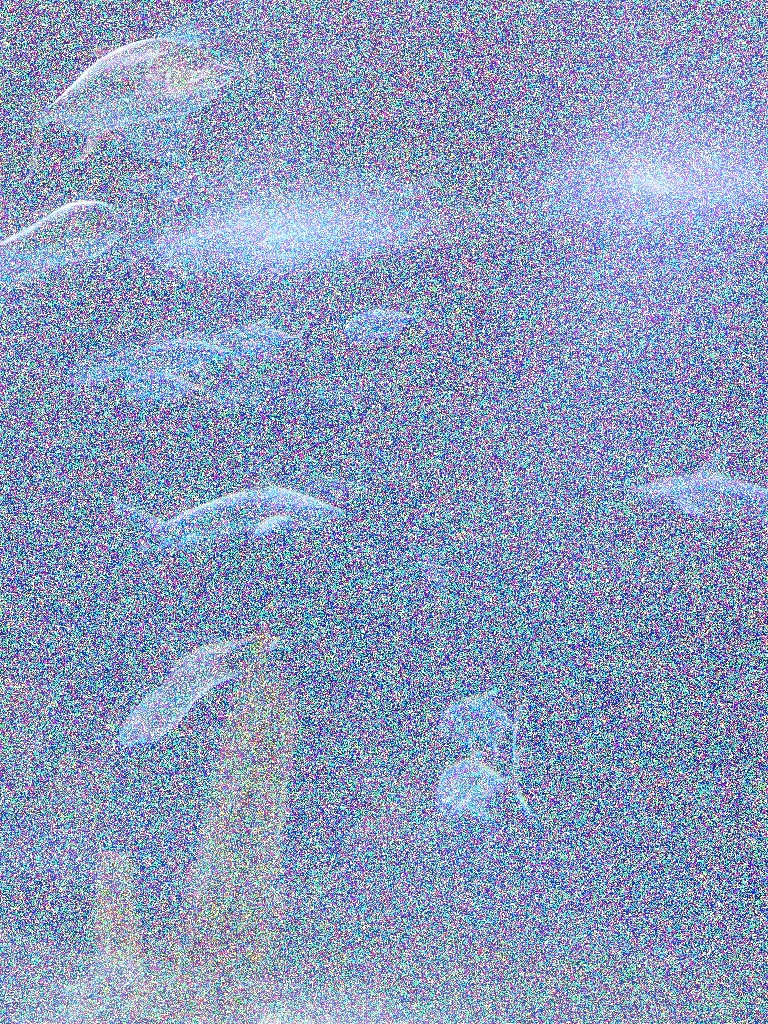fish: (21, 38, 221, 184), (1, 199, 121, 283), (437, 747, 533, 819), (440, 689, 526, 753), (135, 328, 247, 372), (208, 316, 314, 362), (67, 340, 167, 386), (156, 50, 264, 92), (344, 296, 436, 344), (202, 365, 296, 409), (307, 367, 387, 409), (121, 372, 212, 404)
shark: (110, 452, 344, 562), (628, 444, 768, 518), (234, 456, 372, 512), (387, 516, 449, 608)
stingray: (118, 634, 292, 748)
